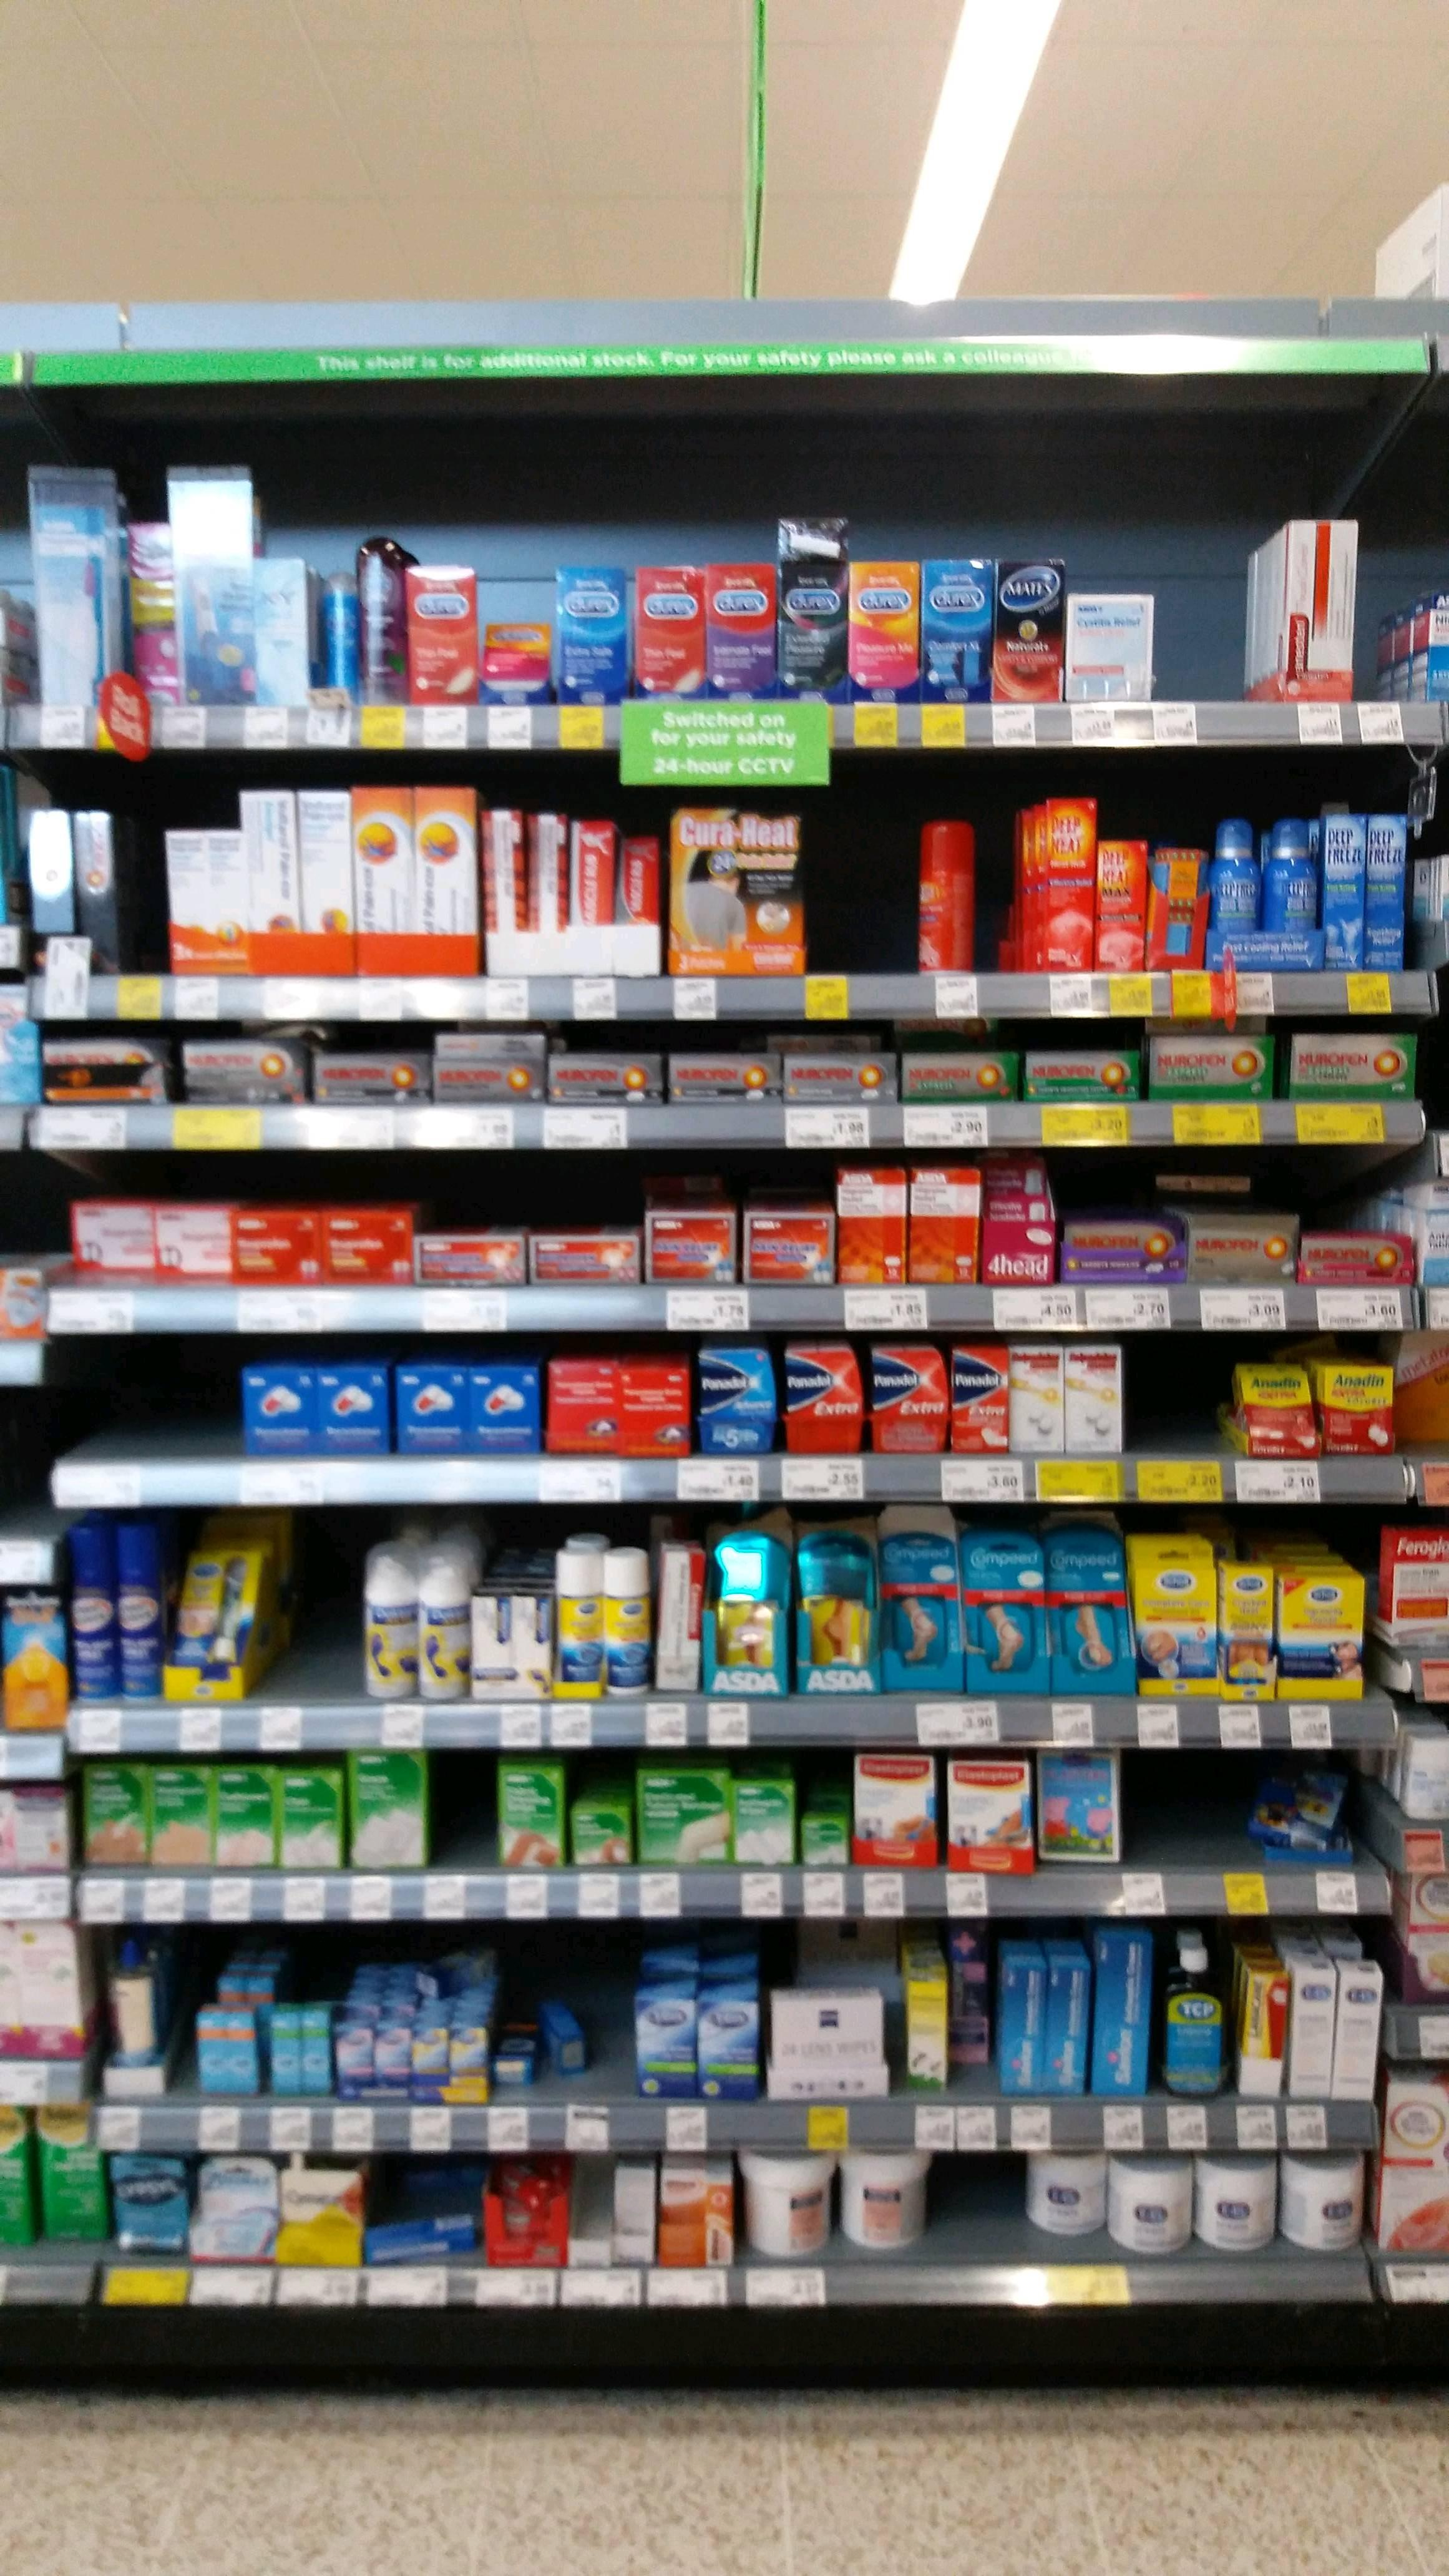empty: (807, 812, 913, 973), (1150, 540, 1244, 701), (271, 1578, 356, 1700), (939, 2153, 1023, 2263), (85, 1355, 156, 1467), (430, 1760, 497, 1877), (1198, 1759, 1265, 1875), (166, 1352, 237, 1461), (1127, 1757, 1192, 1874)
